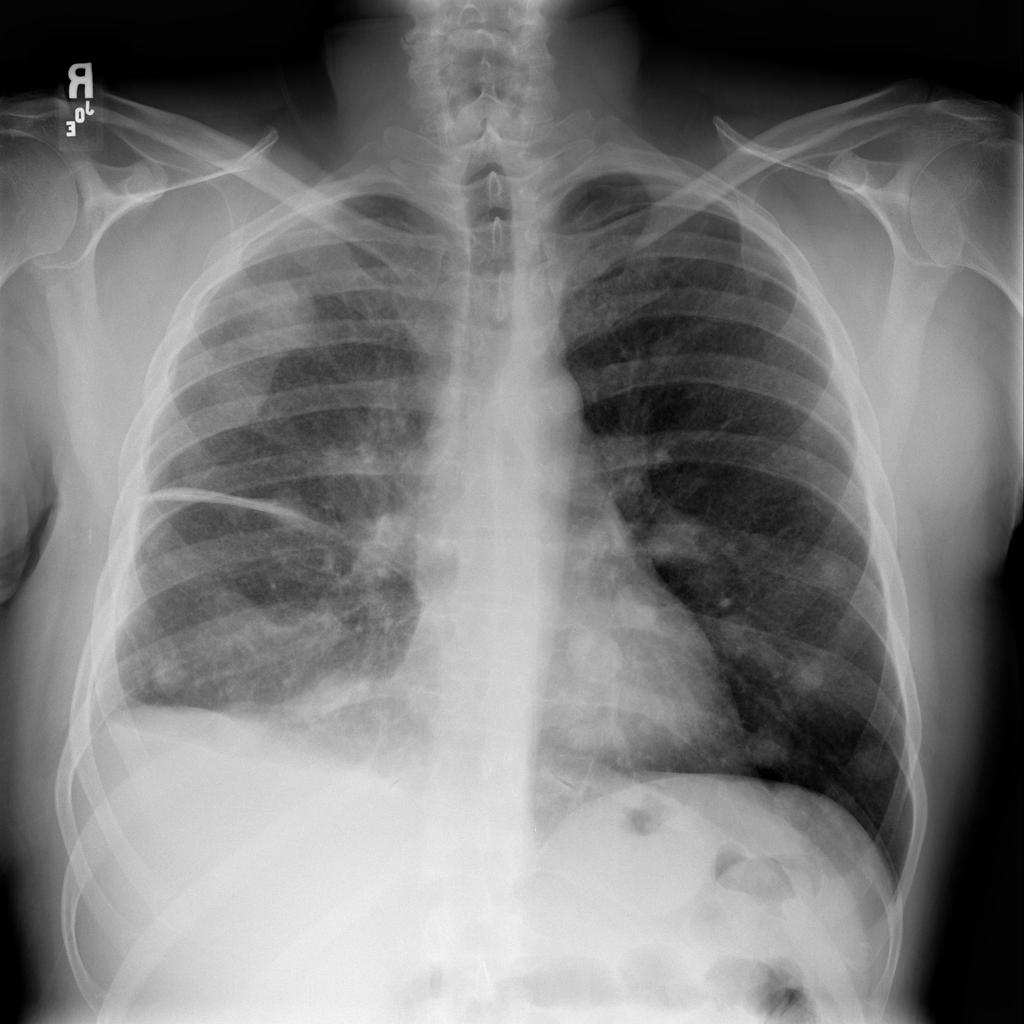nodule: (238, 276, 332, 366), (635, 498, 718, 576), (598, 569, 675, 646), (836, 725, 910, 798), (559, 622, 630, 695), (728, 715, 806, 780), (775, 637, 843, 711), (800, 536, 870, 607), (133, 638, 203, 706)
